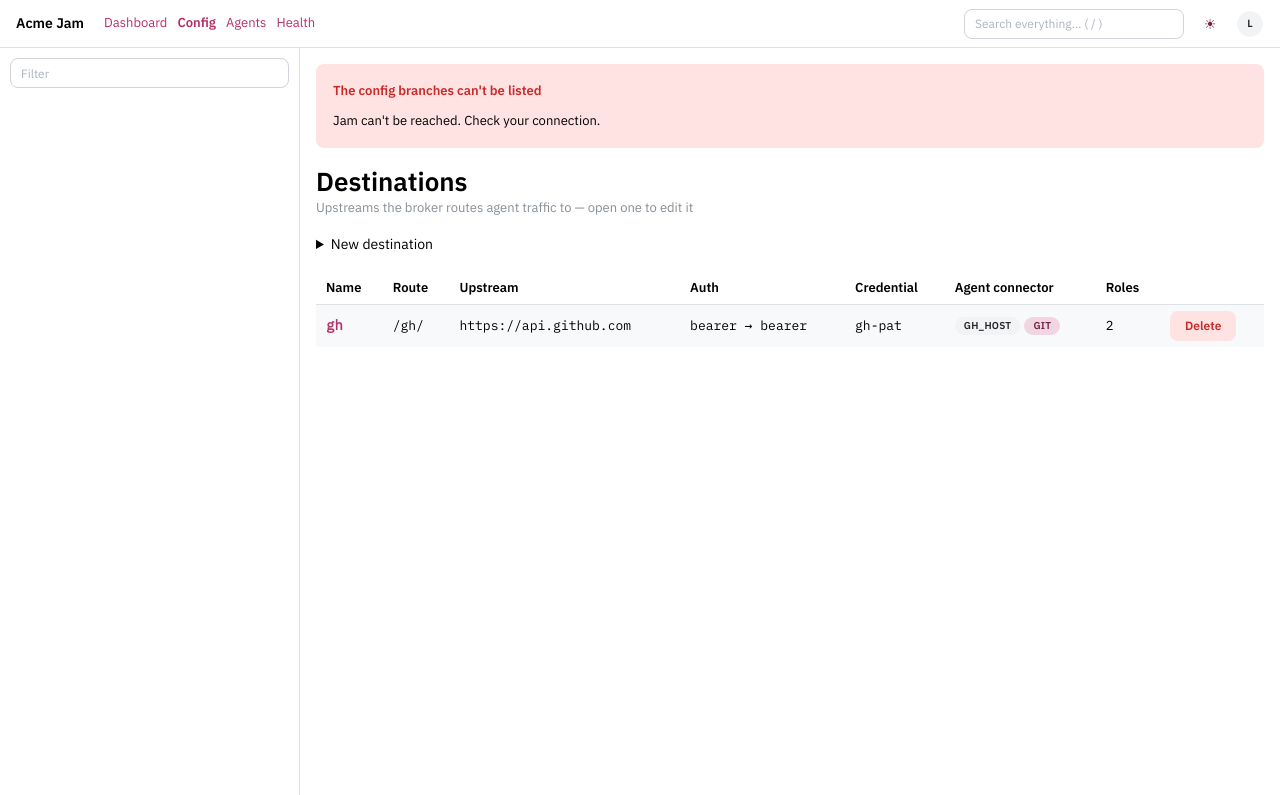
Test case: destinations › shows a refused create inline
Step 1. Click the heading "New destination" → (382, 244), box [331,235,433,253]
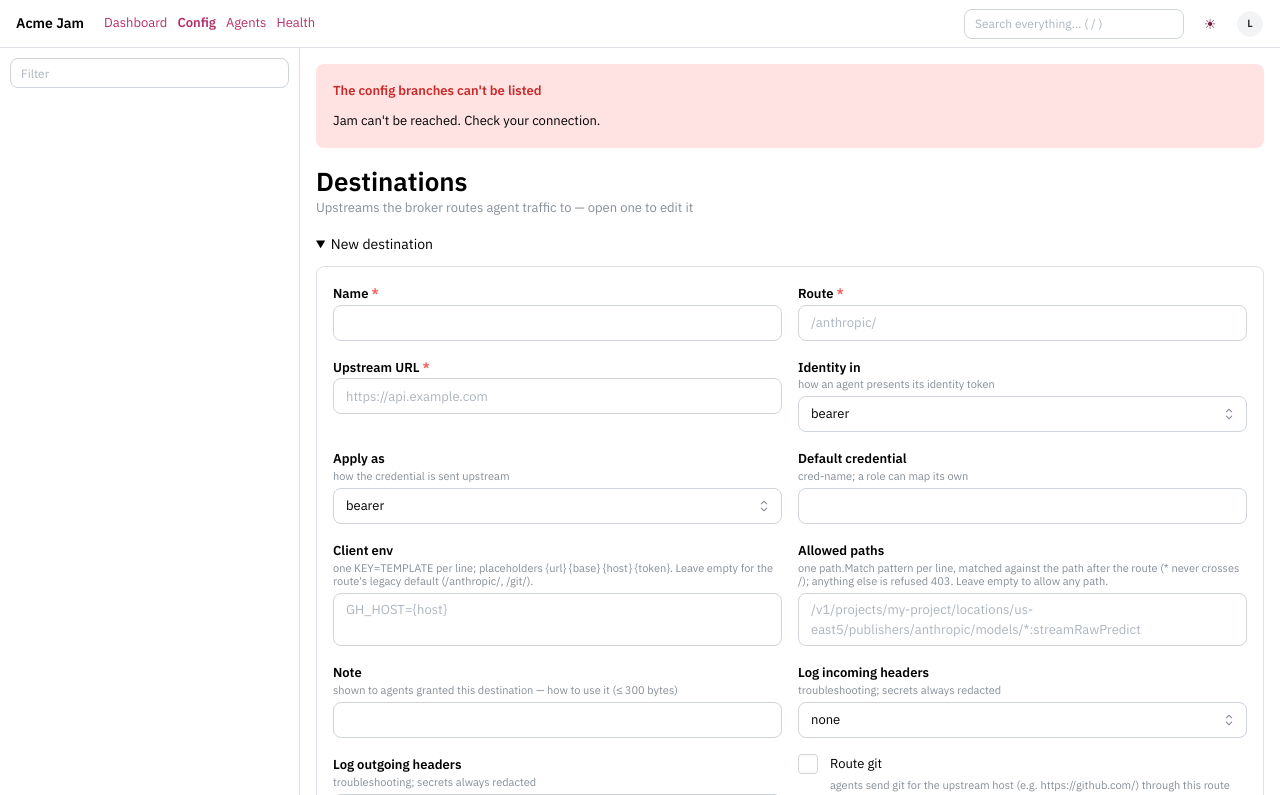
Step 2. Type "gh" into the field labelled "Name *" → (558, 323), box [333,305,782,341]
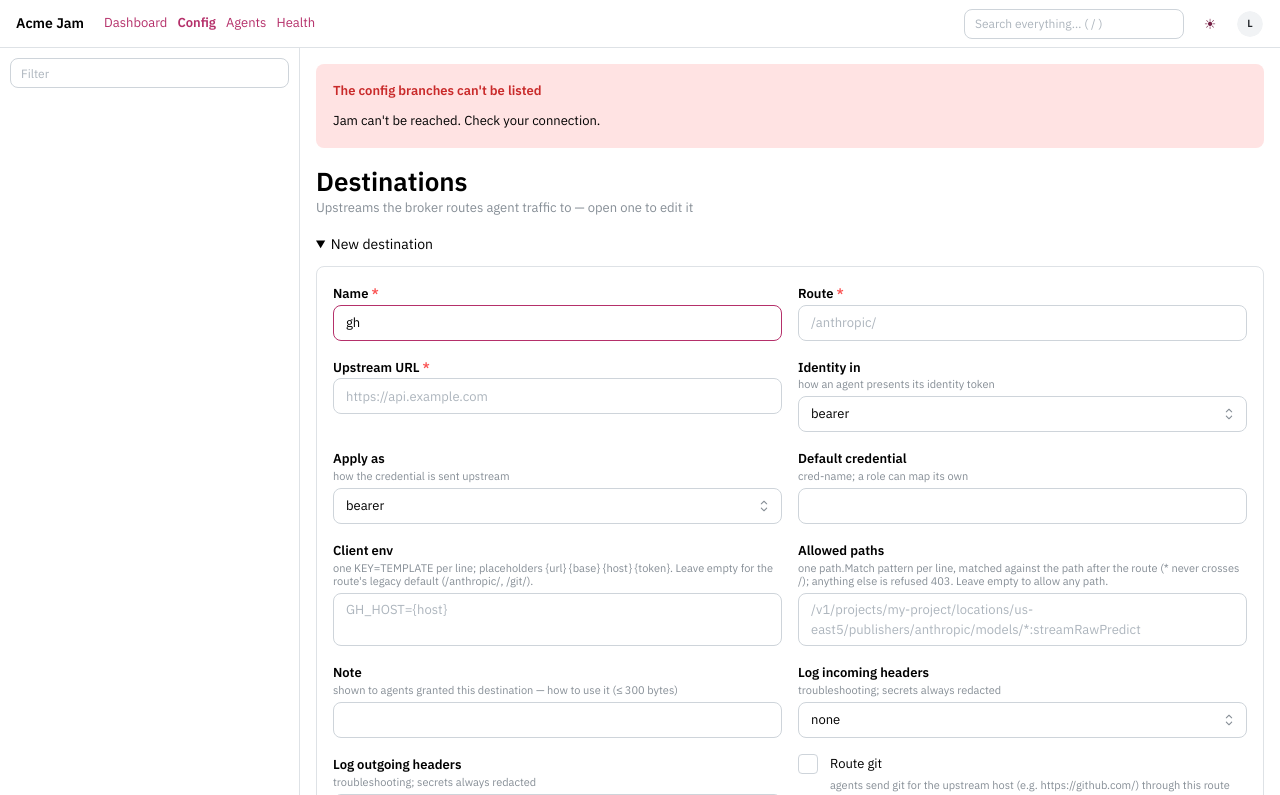
Step 3. Type "/gh/" into the field labelled "Route *" → (1022, 323), box [798,305,1247,341]
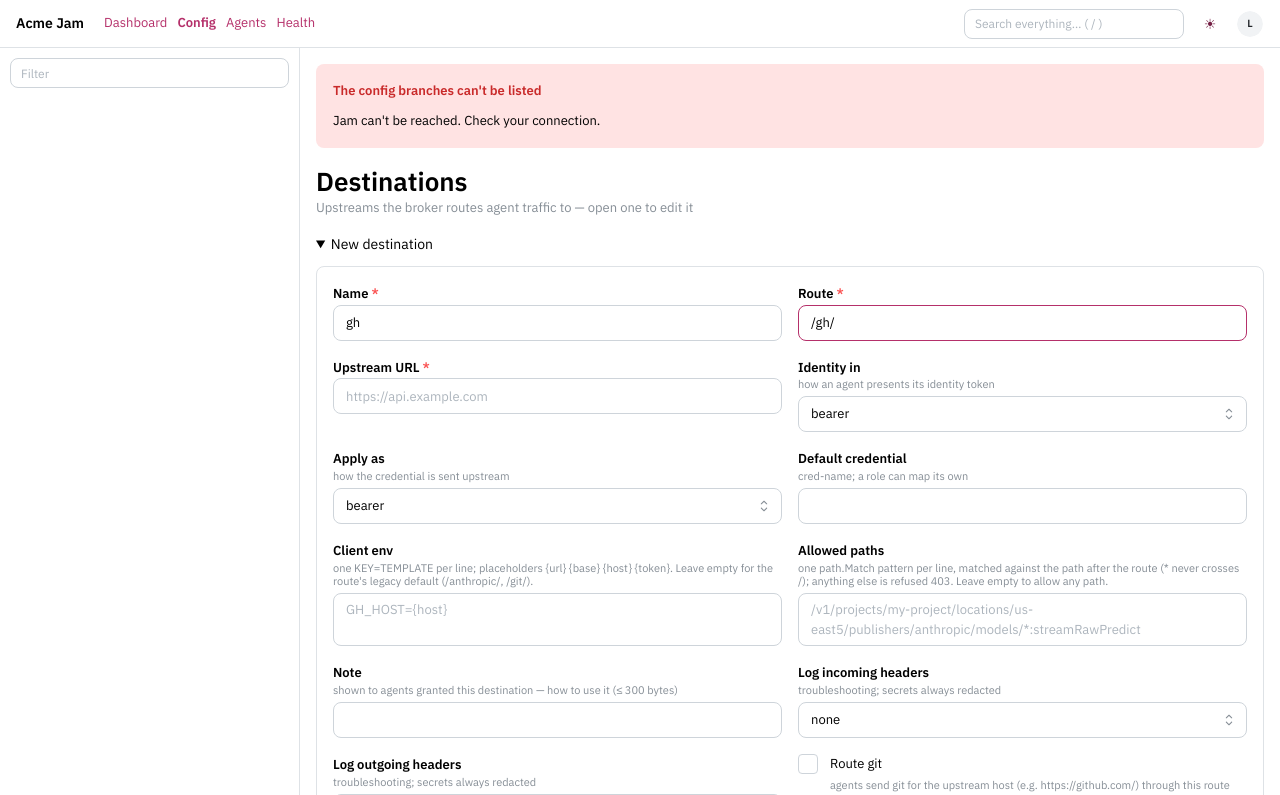
Step 4. Type "https://api.github.com" into the field labelled "Upstream URL *" → (558, 396), box [333,378,782,414]
(page scrolled)
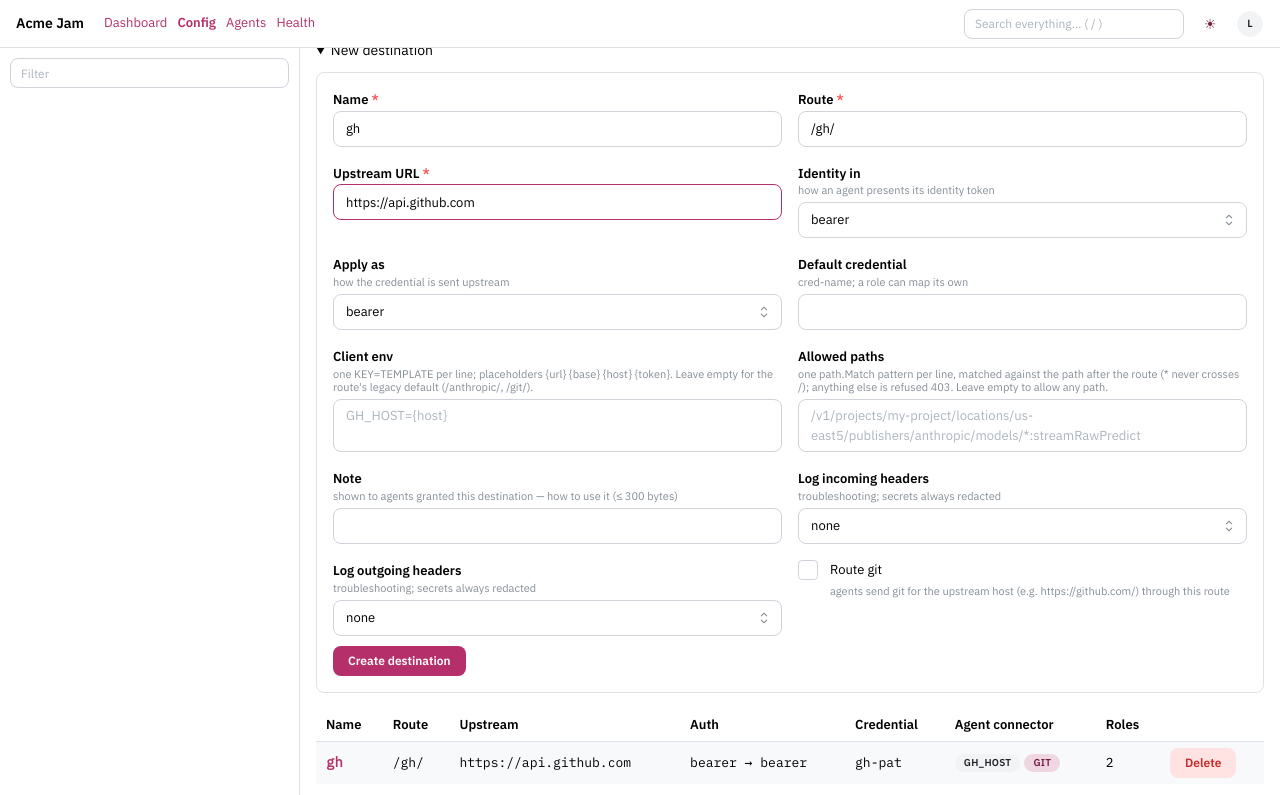
Step 5. Click the button "Create destination" → (399, 661), box [333,646,466,676]
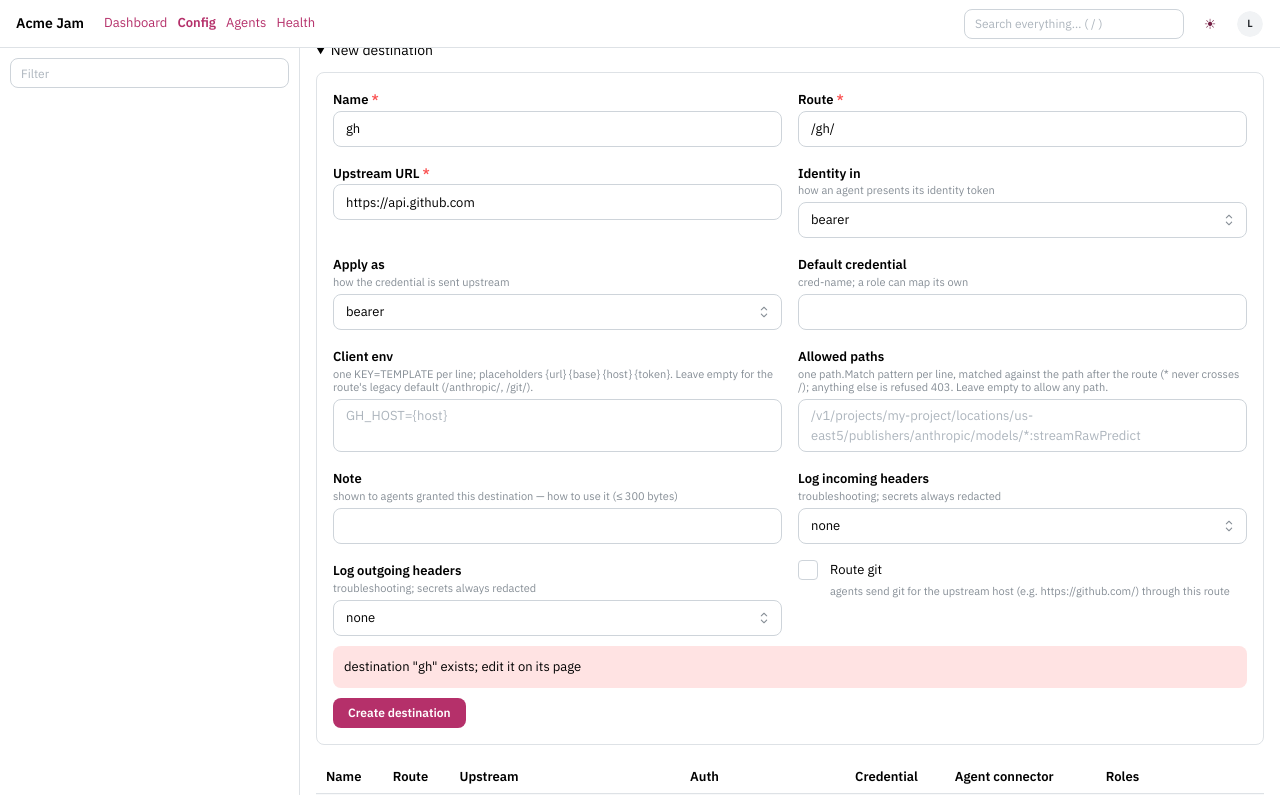
Expected: the text "destination \"gh\" exists; edit it on its page" is shown, [344,658,581,675]
